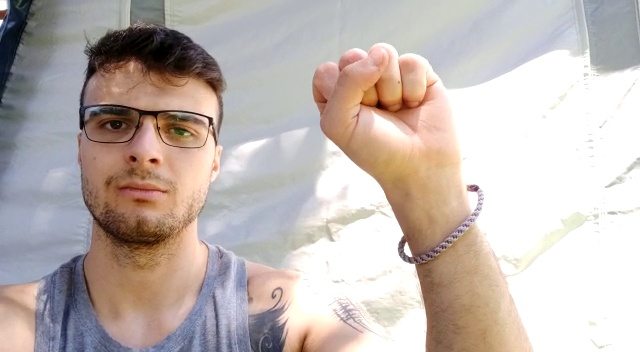Fist: (310, 42, 474, 180)
